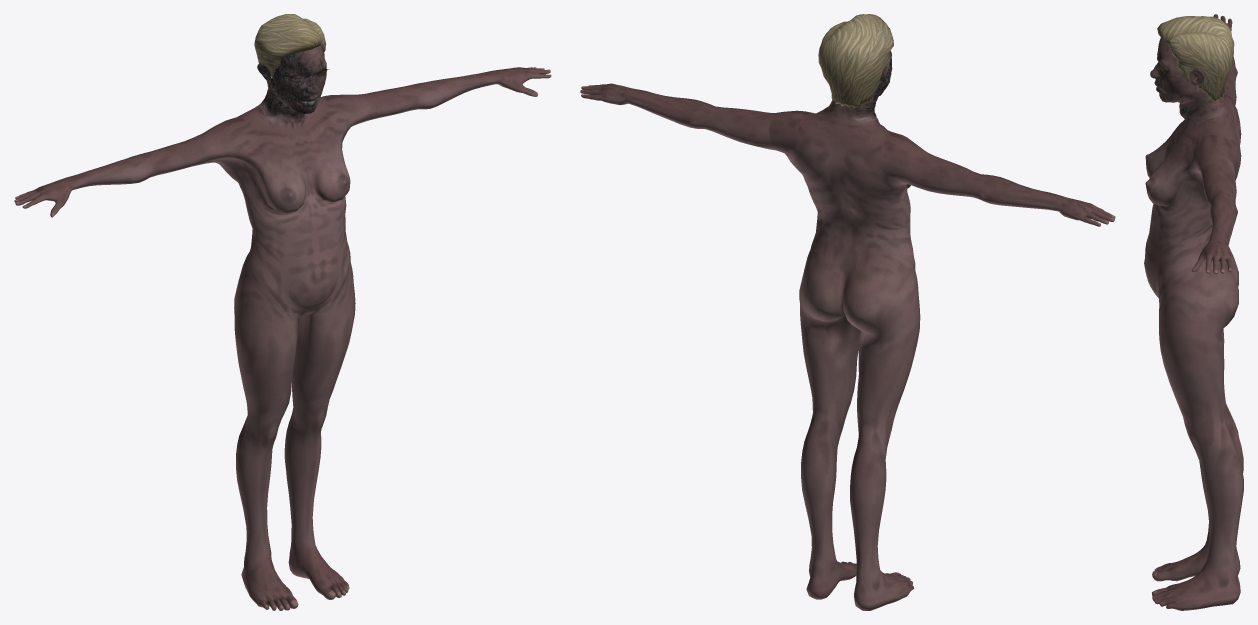
The model's file is pelucahombre2.obj.
3 renders of one model, left to right at view 1: azimuth 30°, elevation 25°; view 2: azimuth 150°, elevation 25°; view 3: azimuth 270°, elevation 25°, orthographic.
Visible parts, largest first — view 1: Body, Hair; view 2: Body, Hair; view 3: Body, Hair.
Part boxes in pixels (box(x1,y1,x2,y2)): Body: box(14, 45, 551, 610); Hair: box(254, 14, 326, 90); Body: box(580, 50, 1115, 610); Hair: box(818, 14, 893, 107); Body: box(1144, 14, 1243, 610); Hair: box(1157, 16, 1234, 101).
Bounding box in the file's own units: 174 × 178 × 28.12.
Materials: 2 (2 with a texture image).
